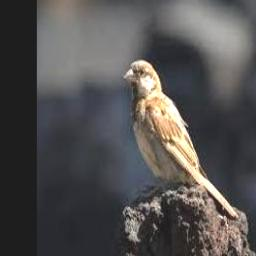Sparrow: (123, 58, 239, 219)
